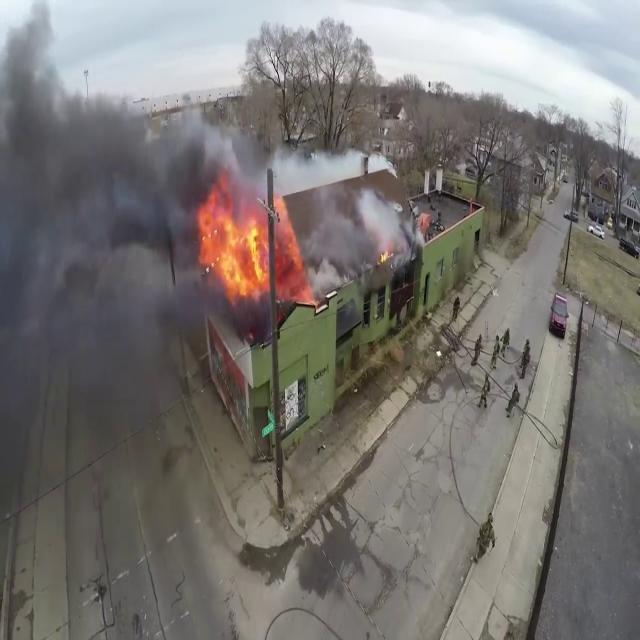Fire: (194, 187, 308, 302)
Smoke: (0, 25, 228, 539), (307, 178, 407, 306)
